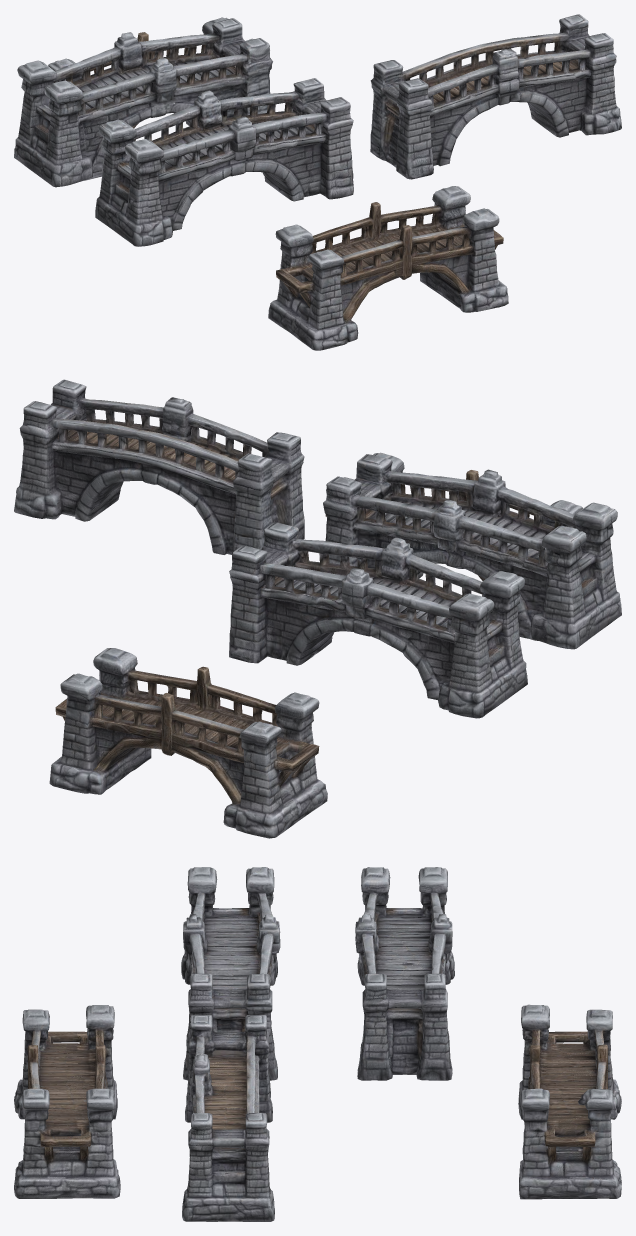
Rendered from stone_archways_timber.glb.
3 renders of one model, top to bottom at view 1: azimuth 30°, elevation 25°; view 2: azimuth 150°, elevation 25°; view 3: azimuth 270°, elevation 25°, orthographic. The views are drawn at different scales.
Size of the model in its own units: 1.9 by 0.6379 by 1.9.
Materials: 1 (1 with a texture image).
